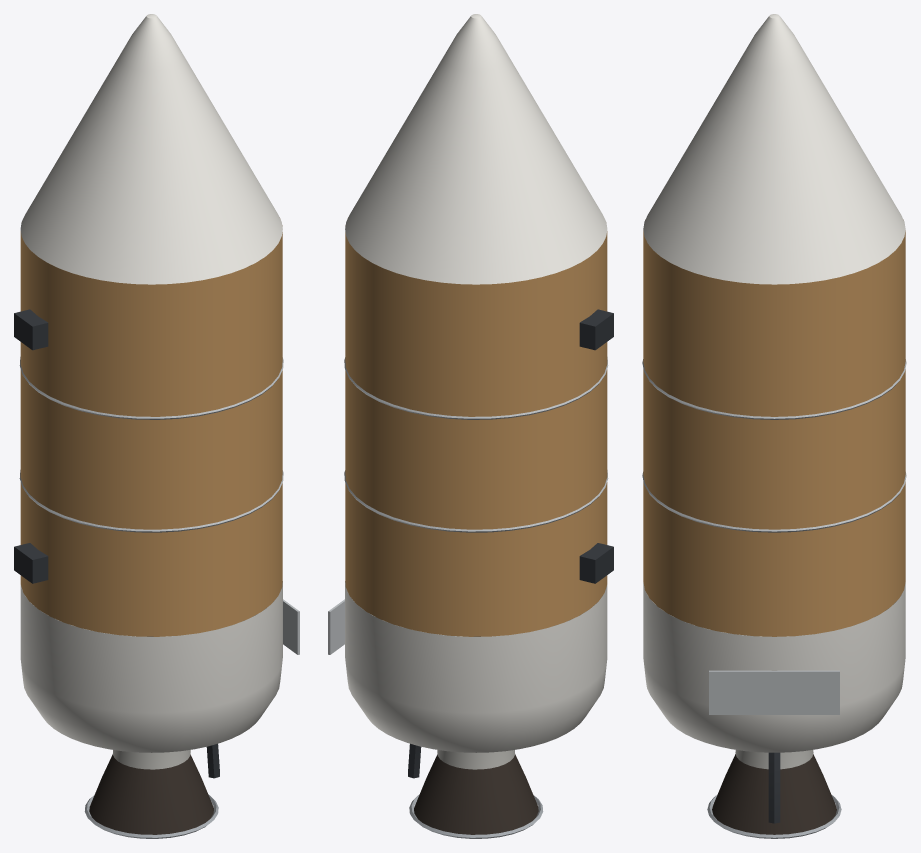
Rendered from booster_cbc_l.glb.
The picture shows the model from 3 angles, left to right: view 1: azimuth 30°, elevation 25°; view 2: azimuth 150°, elevation 25°; view 3: azimuth 270°, elevation 25°; orthographic projection.
Visible parts, largest first — view 1: tank, nose, engines; view 2: tank, nose, engines; view 3: tank, nose, engines.
Boxes of the visible parts, x1=… form: tank: x1=14, y1=225, x2=299, y2=752; nose: x1=20, y1=14, x2=282, y2=284; engines: x1=84, y1=636, x2=219, y2=838; tank: x1=328, y1=225, x2=613, y2=752; nose: x1=345, y1=14, x2=607, y2=284; engines: x1=408, y1=636, x2=543, y2=838; tank: x1=642, y1=230, x2=906, y2=752; nose: x1=643, y1=14, x2=905, y2=284; engines: x1=707, y1=750, x2=841, y2=838.
Bounding box in the file's own units: 3.62 × 11.3 × 3.4.
